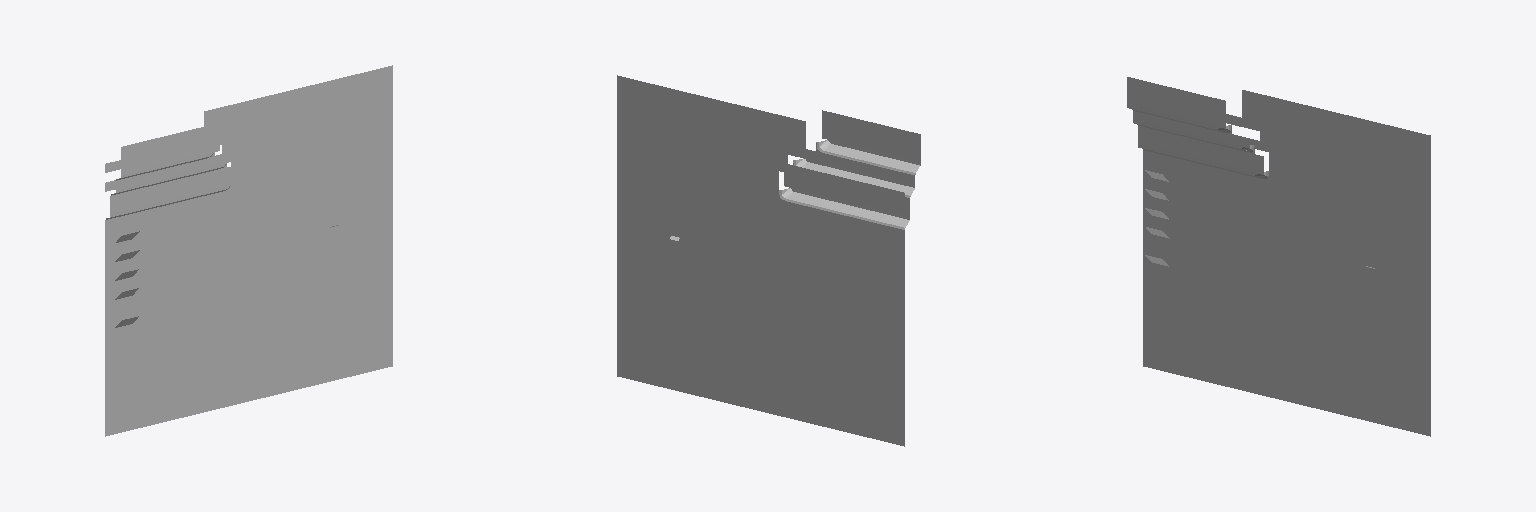
File: testa_02_00.obj
3 renders of one model, left to right at view 1: azimuth 30°, elevation 25°; view 2: azimuth 150°, elevation 25°; view 3: azimuth 330°, elevation 25°, orthographic.
Parts seen in each view (by area): view 1: map; view 2: map; view 3: map.
Boxes of the visible parts, x1,y1,x2,y2 form: map: [105, 65, 392, 436]; map: [617, 75, 920, 446]; map: [1127, 77, 1430, 436].
Bounding box in the file's own units: 32 × 32 × 3.35.